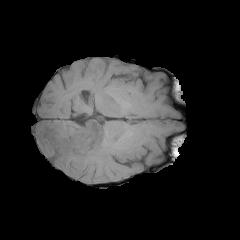glioma: (36, 108, 146, 181)
